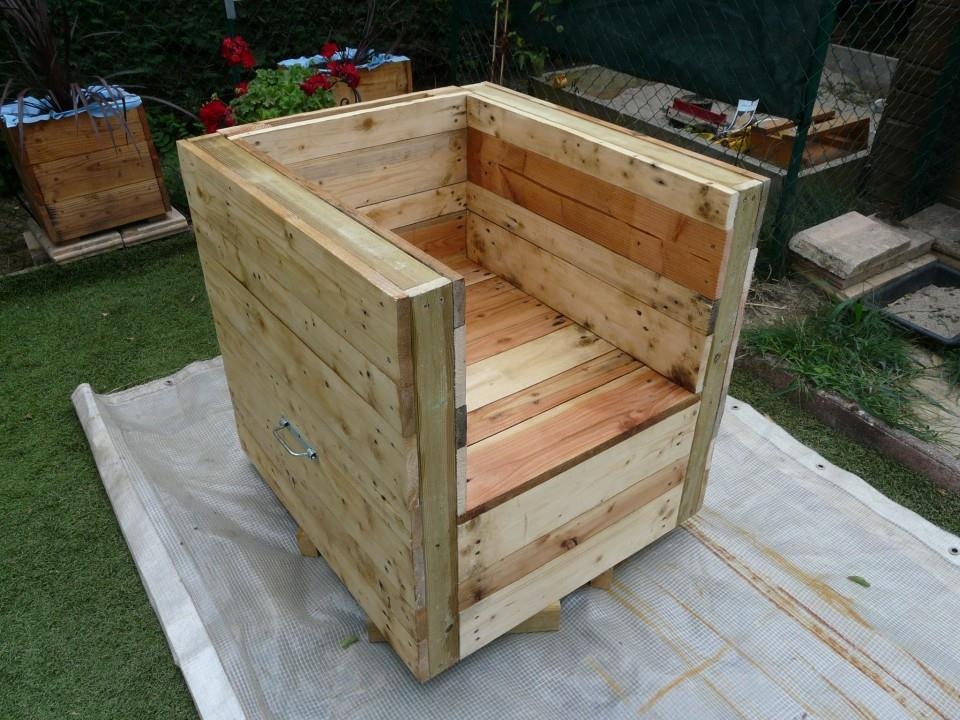chairs: (170, 72, 773, 686)
